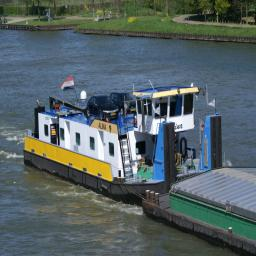tugboat: (24, 76, 226, 208)
